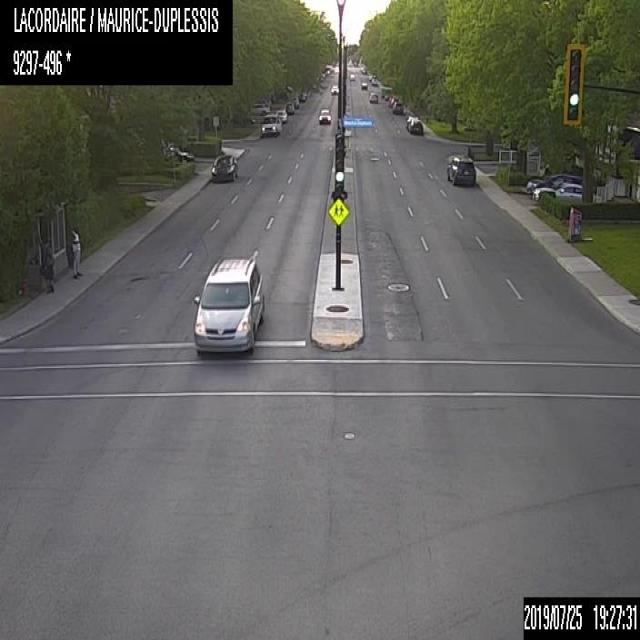pedestrian: (39, 235, 54, 292), (70, 224, 81, 279)
vehicle: (191, 256, 264, 352), (531, 181, 600, 203), (526, 171, 594, 193), (208, 151, 238, 180), (446, 156, 475, 184), (259, 113, 281, 136), (162, 146, 195, 160), (406, 115, 423, 133), (317, 106, 331, 124), (251, 103, 270, 114), (391, 100, 404, 114), (274, 109, 287, 123), (380, 86, 392, 99), (368, 91, 378, 103), (284, 102, 294, 114), (387, 96, 399, 106), (329, 82, 338, 93), (290, 96, 298, 108), (298, 91, 306, 101), (348, 73, 356, 81), (371, 75, 377, 85), (360, 81, 368, 88), (368, 73, 374, 81), (333, 66, 338, 72), (361, 67, 366, 73)
